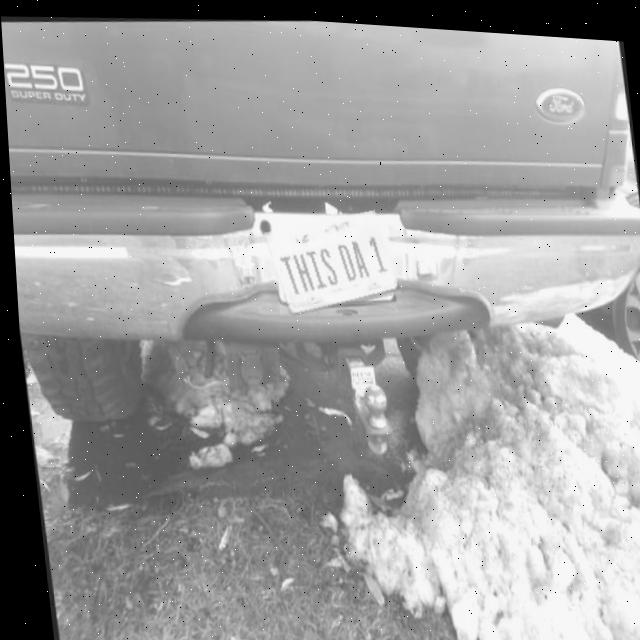LicensePlate: (261, 205, 396, 312)
